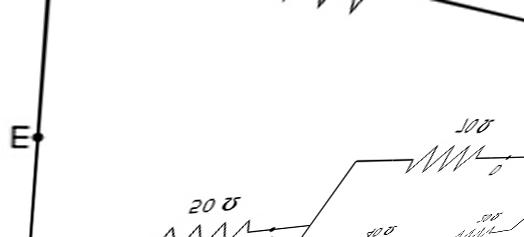resistor: (398, 132, 484, 185)
